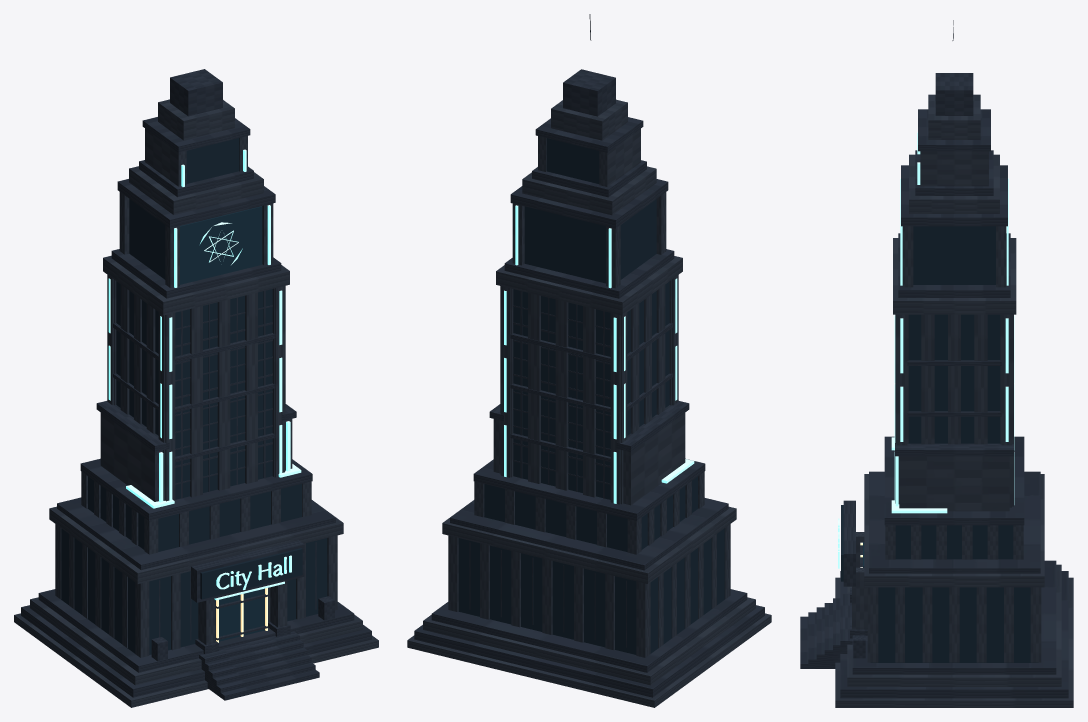
The model's file is city_hall_lod2.glb.
3 renders of one model, left to right at view 1: azimuth 30°, elevation 25°; view 2: azimuth 150°, elevation 25°; view 3: azimuth 270°, elevation 25°, orthographic.
Parts seen in each view (by area): view 1: City Hall · stone, City Hall · trim, City Hall · dark, City Hall · glass, 3D Neon · City Hall; view 2: City Hall · stone, City Hall · dark, City Hall · trim, 3D Neon · City Hall; view 3: City Hall · stone, City Hall · trim, City Hall · dark, 3D Neon · City Hall.
Boxes of the visible parts, bbox=[...] form: City Hall · stone: bbox=[14, 99, 378, 707]; City Hall · trim: bbox=[21, 69, 371, 700]; City Hall · dark: bbox=[61, 138, 327, 654]; City Hall · glass: bbox=[180, 206, 264, 641]; 3D Neon · City Hall: bbox=[108, 149, 301, 600]; City Hall · stone: bbox=[407, 99, 771, 707]; City Hall · dark: bbox=[458, 138, 724, 654]; City Hall · trim: bbox=[414, 14, 764, 697]; 3D Neon · City Hall: bbox=[504, 205, 694, 503]; City Hall · stone: bbox=[835, 94, 1073, 707]; City Hall · trim: bbox=[800, 20, 1068, 698]; City Hall · dark: bbox=[841, 226, 1038, 662]; 3D Neon · City Hall: bbox=[838, 132, 1014, 568].
Bounding box in the file's own units: 8.3 × 19.9 × 7.81.
6 materials, 2 textured.
